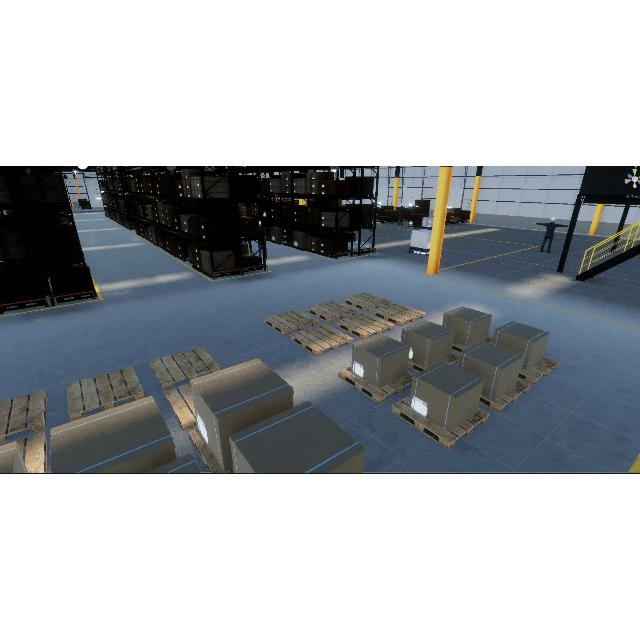wooden_pallet: (391, 394, 489, 451), (66, 365, 144, 421), (150, 346, 221, 391), (338, 366, 415, 404), (290, 324, 353, 356), (480, 379, 531, 413), (336, 312, 395, 340), (262, 309, 319, 336), (372, 303, 428, 327), (519, 355, 560, 386), (306, 300, 359, 323), (343, 292, 391, 312)
